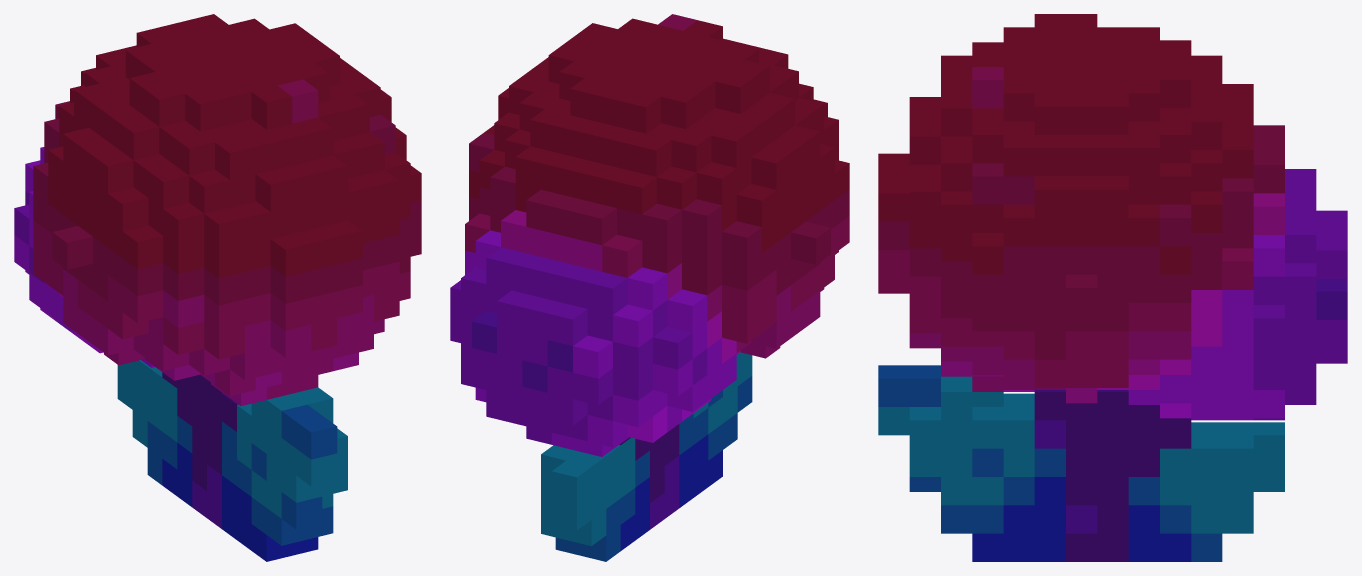
Rendered from overseer-plant-1-named-nodes.glb.
The picture shows the model from 3 angles, left to right: view 1: azimuth 30°, elevation 25°; view 2: azimuth 150°, elevation 25°; view 3: azimuth 270°, elevation 25°; orthographic projection. The views are drawn at different scales.
Parts seen in each view (by area): view 1: geometry_0; view 2: geometry_0; view 3: geometry_0.
Boxes of the visible parts, bbox=[...] form: geometry_0: bbox=[14, 14, 421, 561]; geometry_0: bbox=[450, 14, 849, 561]; geometry_0: bbox=[878, 14, 1347, 561].
Bounding box in the file's own units: 0.7982 × 1.04 × 0.921.
Materials: 1 (1 with a texture image).
